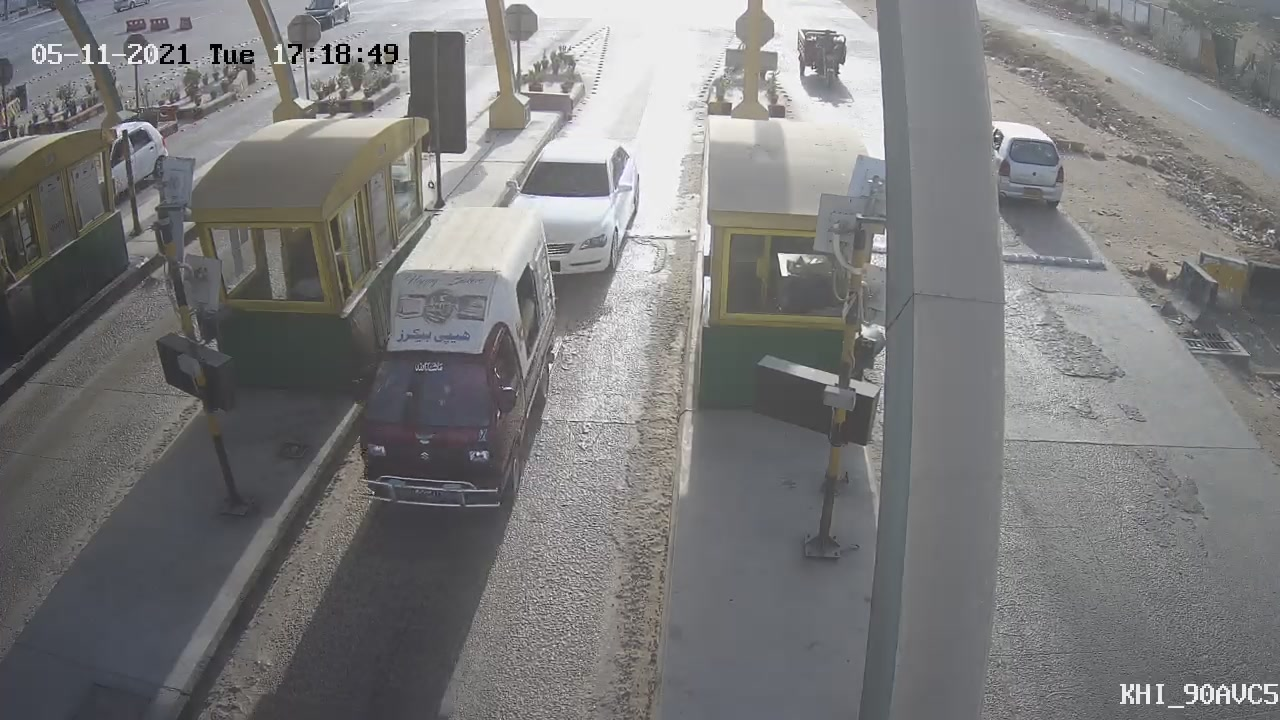F1: (351, 194, 563, 531)
